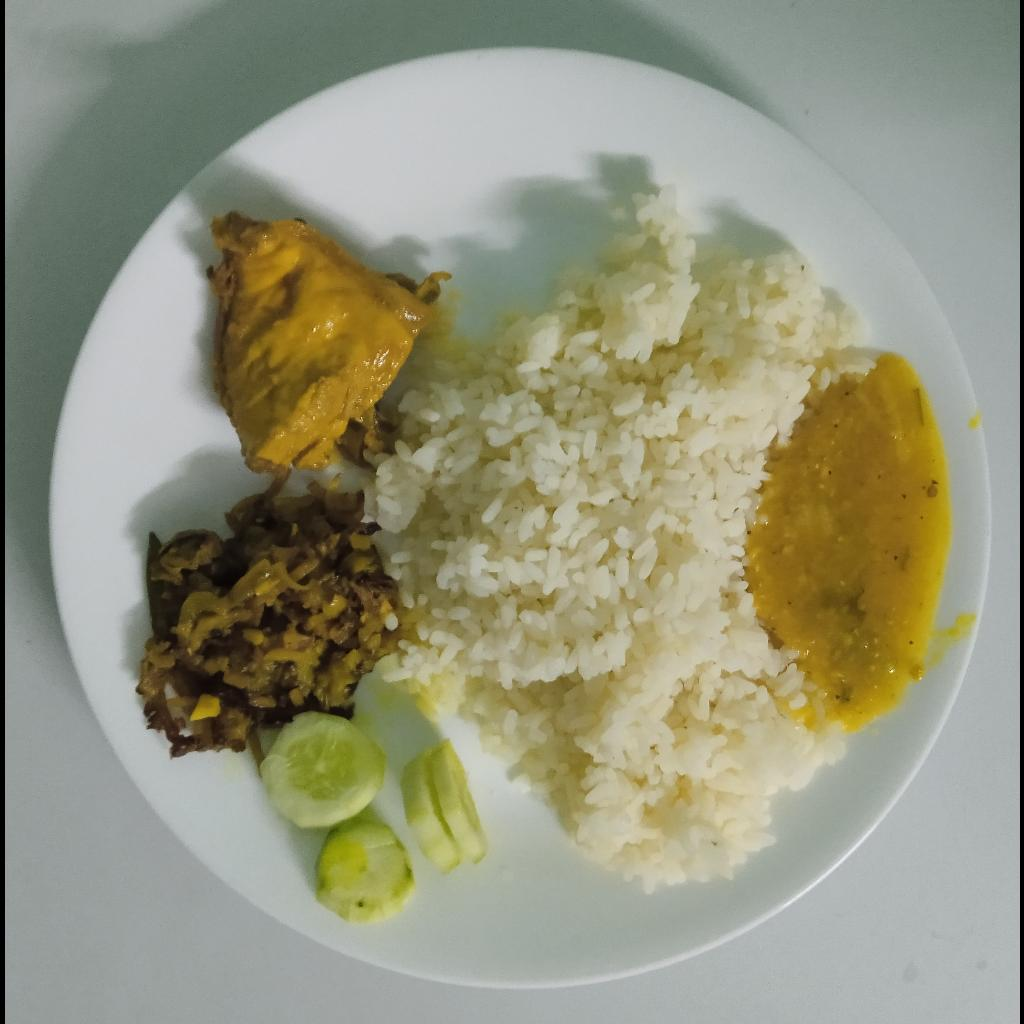chicken: (204, 209, 432, 475)
cucumber: (257, 710, 414, 921), (399, 737, 490, 877)
daal: (754, 351, 949, 730)
dundol: (133, 479, 396, 754)
rice: (367, 187, 865, 897)
